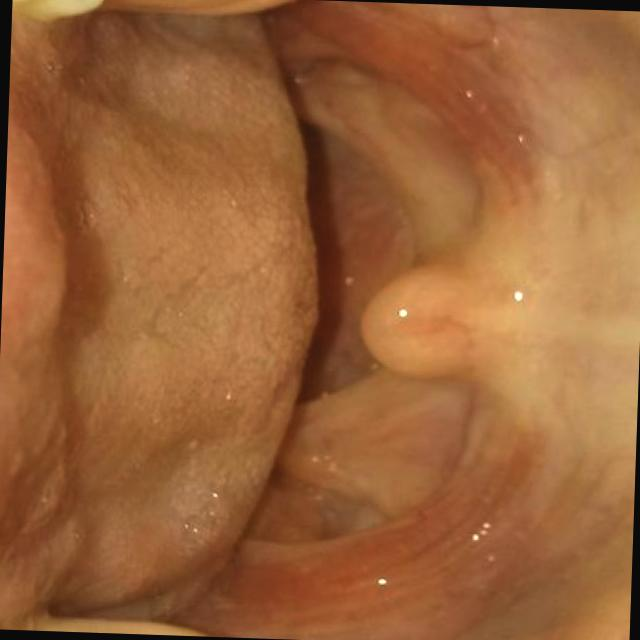Non Pharyngitis: (213, 308, 499, 548), (253, 64, 539, 270)
